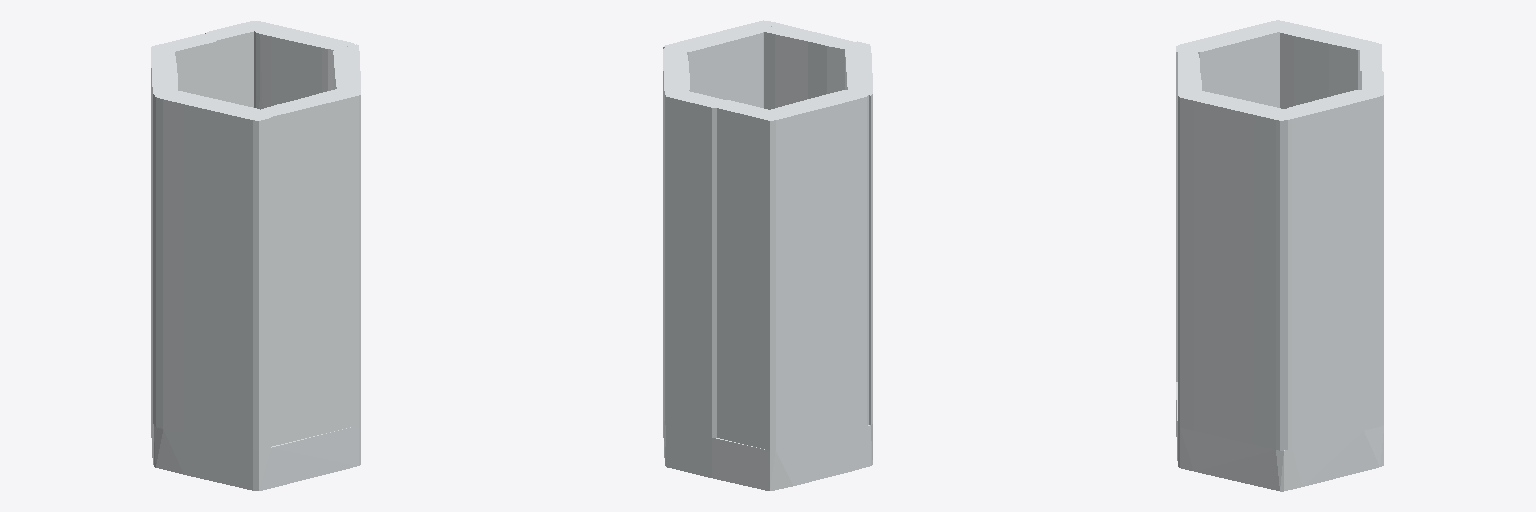
The robot description file, URDF, robot "glass":
<?xml version="1.0" encoding="utf-8"?>
<!-- This URDF was automatically created by SolidWorks to URDF Exporter! Originally created by [author] ([email redacted]) 
     Commit Version: 1.5.1-0-g916b5db  Build Version: 1.5.7152.31018
     For more information, please see http://wiki.ros.org/sw_urdf_exporter -->
<robot
  name="glass">
  <link
    name="glass2">
    <inertial>
      <origin
        xyz="-1.1259E-17 9.70083956679786E-18 0.043208"
        rpy="0 0 0" />
      <mass
        value="0.091799" />
      <inertia
        ixx="0.00011262"
        ixy="-2.06799999999999E-22"
        ixz="-1.5146E-20"
        iyy="0.00011262"
        iyz="6.08841619019977E-21"
        izz="4.7463E-05" />
    </inertial>
    <visual>
      <origin
        xyz="0 0 0"
        rpy="1.5707963267949 0 0" />
      <geometry>
        <mesh
          filename="meshes/glass2_mod1.obj" />
      </geometry>
      <material
        name="">
        <color
          rgba="0.94118 0.96078 0.96863 0.7" />
        <texture
          filename="" />
      </material>
    </visual>
    <collision>
      <origin
        xyz="0 0 0"
        rpy="1.5707963267949 0 0" />
      <geometry>
        <mesh
          filename="meshes/glass2_mod1.obj" />
      </geometry>
    </collision>
  </link>
</robot>

--- Facts derived from the render (not from the file) ---
The picture shows the robot from 3 angles, left to right: view 1: azimuth 30°, elevation 25°; view 2: azimuth 150°, elevation 25°; view 3: azimuth 270°, elevation 25°; orthographic projection.
Model glass with 1 links and 0 joints (none), rooted at glass2, posed all joints at 0.
Visible links, largest first — view 1: glass2; view 2: glass2; view 3: glass2.
Boxes of the visible links, <box> form: glass2: <box>151,21,360,490</box>; glass2: <box>663,20,872,490</box>; glass2: <box>1176,20,1383,491</box>.
Size in the robot's own frame: 0.0583 by 0.0513 by 0.1005 metres.
1 mesh visuals loaded from 1 distinct referenced files (1 OBJ).